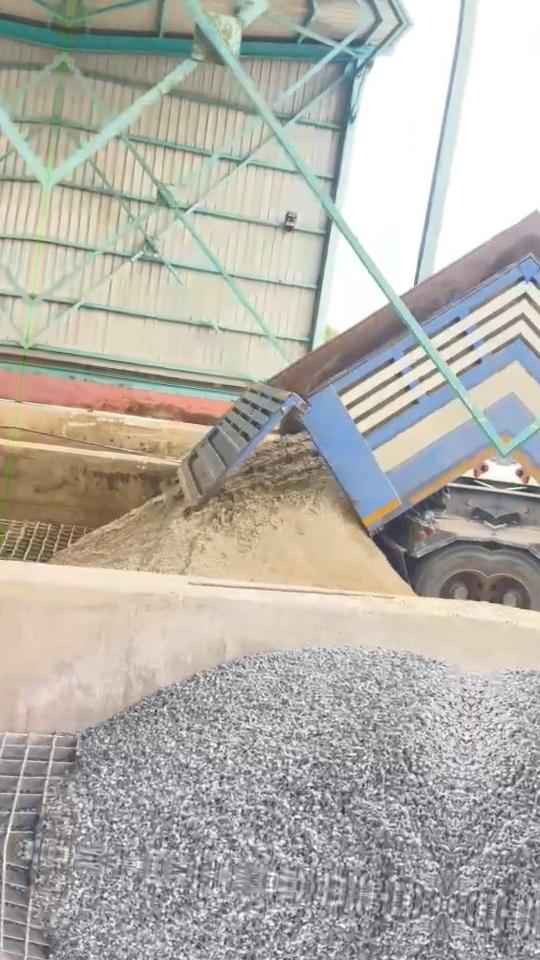gravel: (45, 648, 474, 904)
sand: (54, 435, 411, 594)
